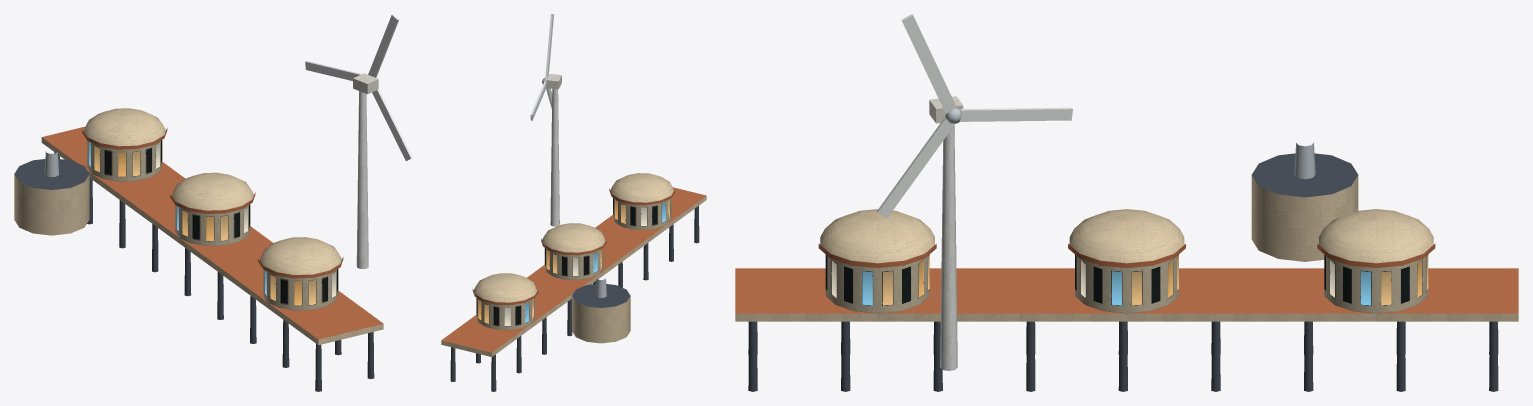
File: titan_lake_village.glb
3 renders of one model, left to right at view 1: azimuth 30°, elevation 25°; view 2: azimuth 150°, elevation 25°; view 3: azimuth 270°, elevation 25°, orthographic. The views are drawn at different scales.
Visible parts, largest first — view 1: titan_lake_village_LOD0; view 2: titan_lake_village_LOD0; view 3: titan_lake_village_LOD0.
Part boxes in pixels (bbox=[...]): titan_lake_village_LOD0: bbox=[14, 14, 412, 391]; titan_lake_village_LOD0: bbox=[441, 14, 706, 391]; titan_lake_village_LOD0: bbox=[735, 14, 1518, 391].
Size of what is drawn, in the model's own units: 22.29 by 26.58 by 44.
Materials: 3 (3 with a texture image).
